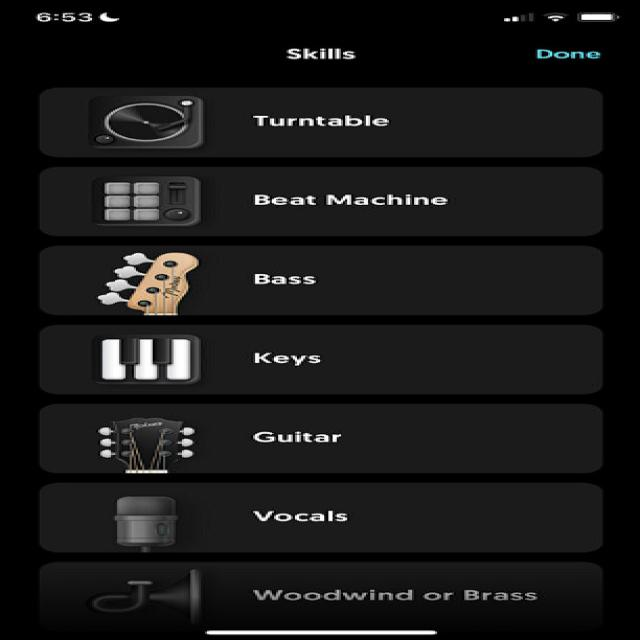column: (12, 75, 637, 640)
image: (63, 405, 236, 477), (58, 170, 228, 237), (55, 326, 228, 391), (54, 566, 219, 634), (57, 481, 219, 548), (64, 255, 234, 315), (75, 86, 219, 156)
row: (23, 556, 617, 640), (31, 81, 618, 163), (31, 394, 618, 476), (31, 164, 618, 244), (30, 476, 620, 554), (31, 246, 618, 320), (37, 320, 620, 394)
text: (246, 582, 548, 606), (243, 185, 465, 211), (248, 108, 432, 132), (246, 420, 403, 448), (240, 266, 406, 290), (234, 501, 386, 525), (240, 342, 376, 366), (269, 40, 377, 64), (523, 42, 616, 64)
